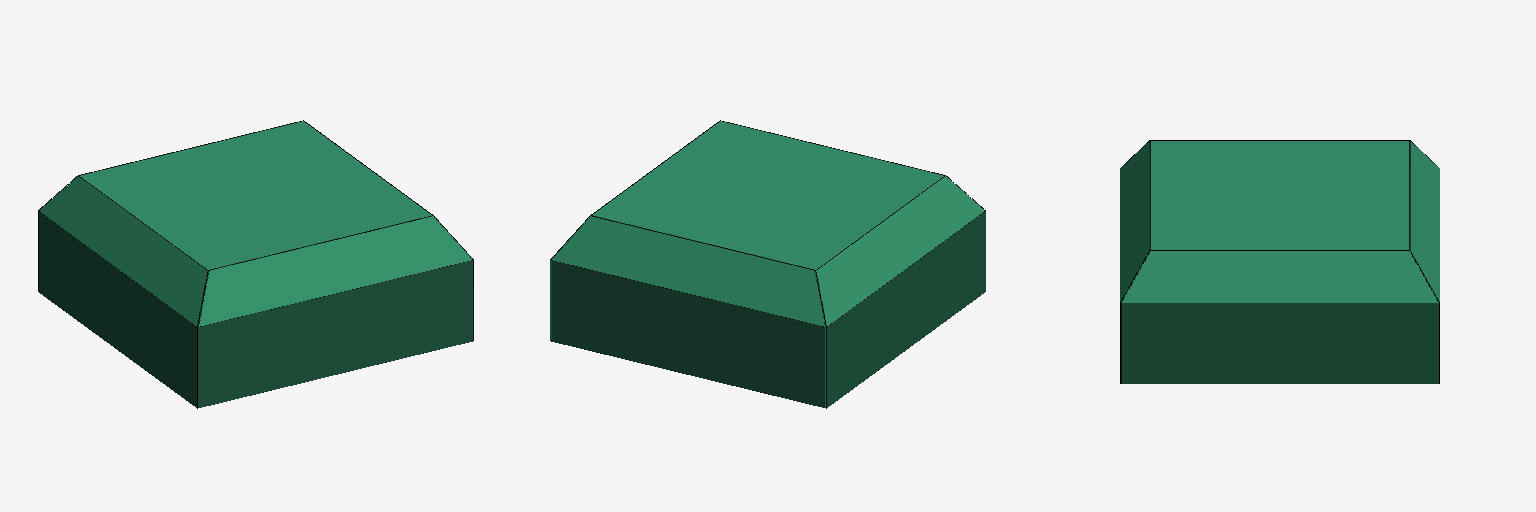
3 renders of one model, left to right at view 1: azimuth 30°, elevation 25°; view 2: azimuth 150°, elevation 25°; view 3: azimuth 270°, elevation 25°, orthographic.
Parts seen in each view (by area): view 1: Cube; view 2: Cube; view 3: Cube.
Part boxes in pixels (bbox=[...]): Cube: bbox=[38, 120, 473, 408]; Cube: bbox=[550, 120, 985, 408]; Cube: bbox=[1120, 140, 1439, 383].
Size of the model in its own units: 2 by 0.8355 by 2.
Materials: 1 (1 with a texture image).